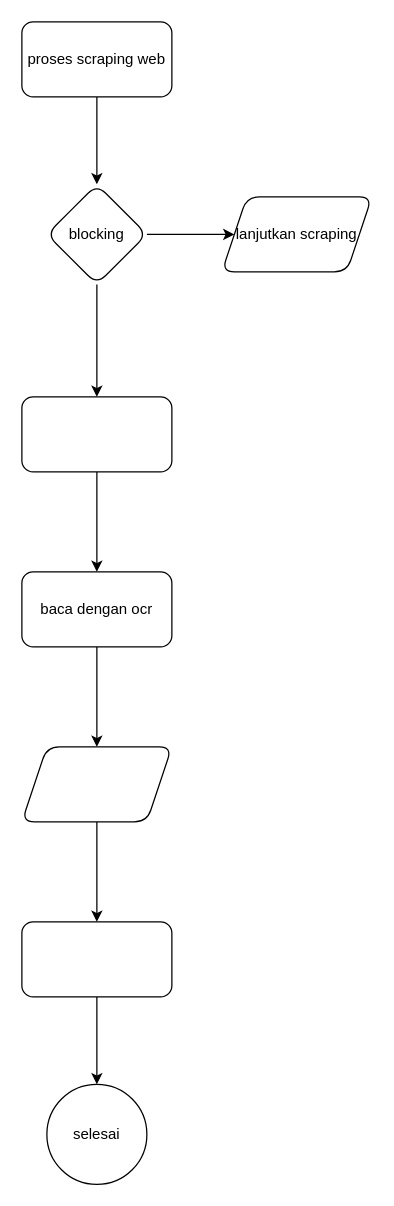
Image size: 394x1206. Some labels were removed from this diagram. Each missing label, with the centre of its shape:
proses baca image: (x=96, y=784)
proses input dengan playwright: (x=96, y=959)
screenshoot chapcha: (x=96, y=434)
